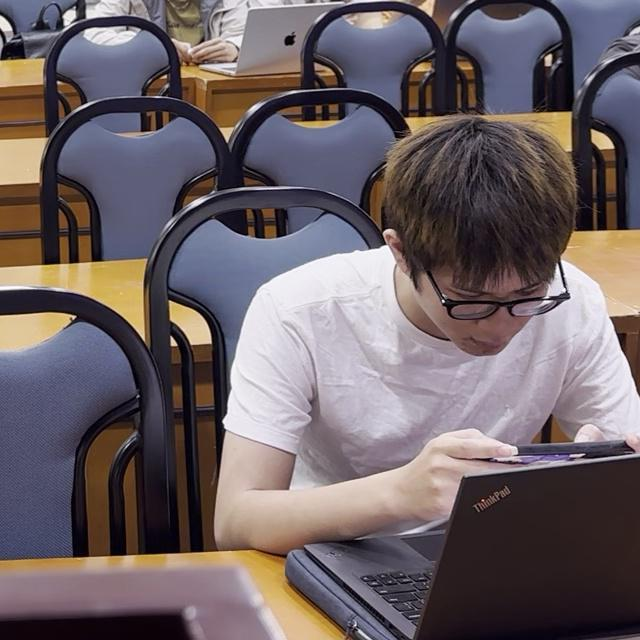Phone use: (212, 124, 640, 554)
